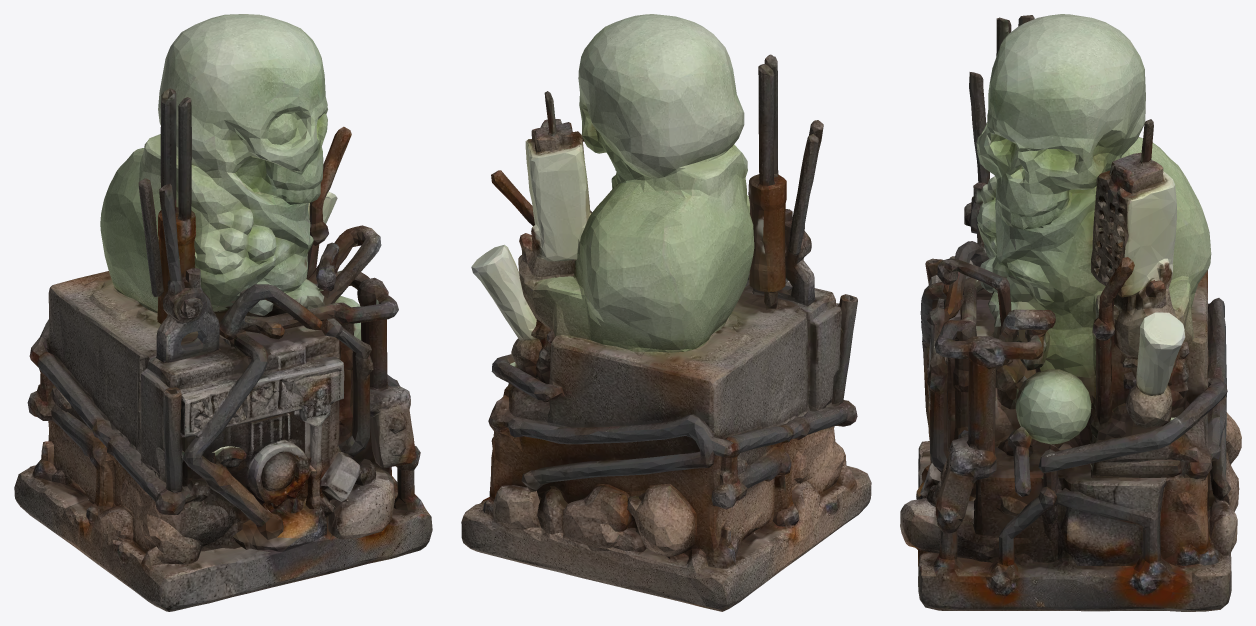
Rendered from belly (109).glb.
3 views of the same model, side by side, from view 1: azimuth 30°, elevation 25°; view 2: azimuth 150°, elevation 25°; view 3: azimuth 270°, elevation 25° (orthographic). The views are drawn at different scales.
Visible parts, largest first — view 1: Hy21_Mesh.obj; view 2: Hy21_Mesh.obj; view 3: Hy21_Mesh.obj.
Boxes of the visible parts, x1,y1,x2,y2 form: Hy21_Mesh.obj: (14,14,432,611); Hy21_Mesh.obj: (461,14,871,611); Hy21_Mesh.obj: (900,14,1241,611).
Bounding box in the file's own units: 1.17 × 1.96 × 1.15.
1 material, 1 textured.
